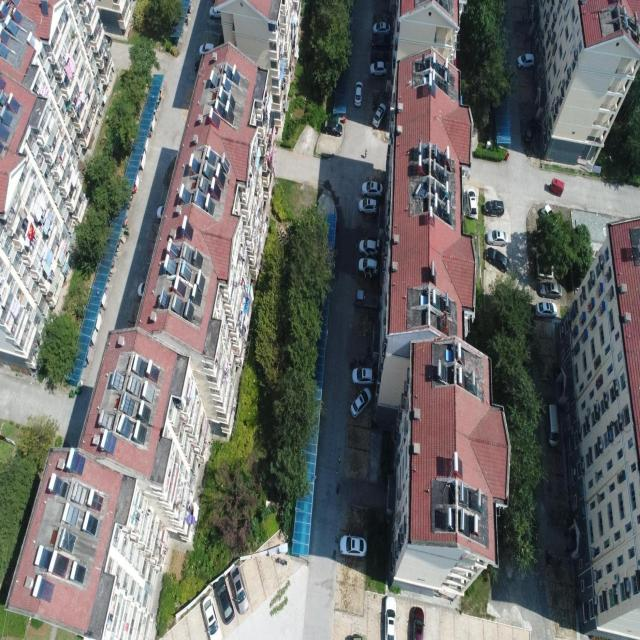p3rson: (364, 146, 367, 158), (367, 344, 370, 355)
